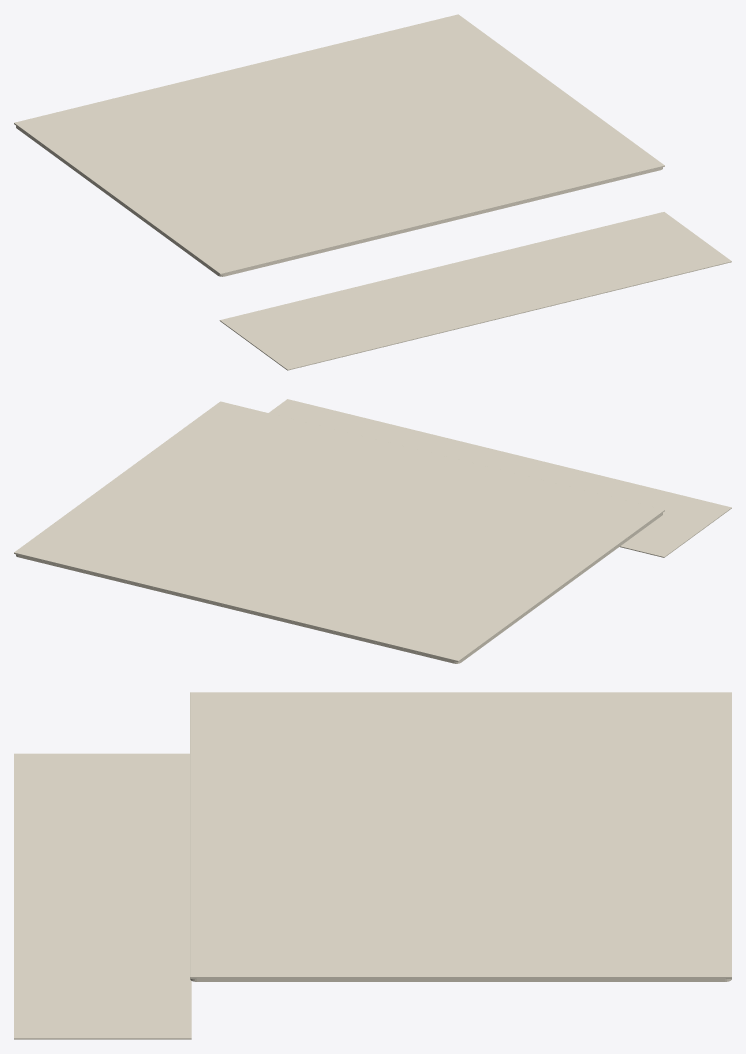
The model's file is meridian-ceiling.glb.
3 renders of one model, top to bottom at view 1: azimuth 30°, elevation 25°; view 2: azimuth 150°, elevation 25°; view 3: azimuth 270°, elevation 25°, orthographic. The views are drawn at different scales.
Visible parts, largest first — view 1: Meridian ceiling ivory plaster; view 2: Meridian ceiling ivory plaster; view 3: Meridian ceiling ivory plaster.
Part boxes in pixels (<box>): Meridian ceiling ivory plaster: <box>14,14,731,370</box>; Meridian ceiling ivory plaster: <box>14,399,731,663</box>; Meridian ceiling ivory plaster: <box>14,692,731,1039</box>.
Bounding box in the file's own units: 39.4 × 4.21 × 42.
